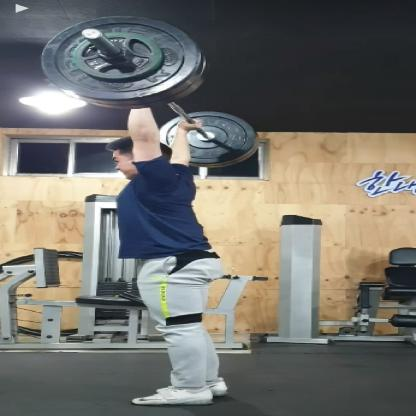Barbell: (39, 11, 213, 111)
